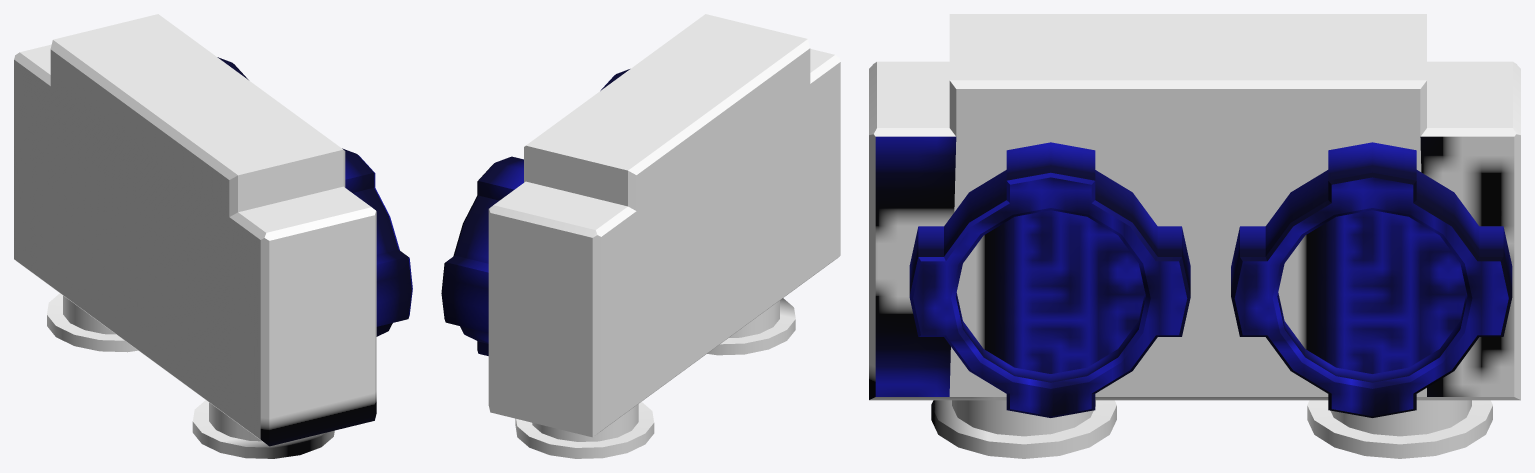
The model's file is hw_sensaround.fbx.
The picture shows the model from 3 angles, left to right: view 1: azimuth 30°, elevation 25°; view 2: azimuth 150°, elevation 25°; view 3: azimuth 270°, elevation 25°; orthographic projection. The views are drawn at different scales.
Visible parts, largest first — view 1: Cube; view 2: Cube; view 3: Cube.
Boxes of the visible parts, x1=… form: Cube: x1=14, y1=14, x2=412, y2=458; Cube: x1=441, y1=14, x2=840, y2=458; Cube: x1=869, y1=14, x2=1520, y2=458.
Bounding box in the file's own units: 8.1 × 13.27 × 21.13.
